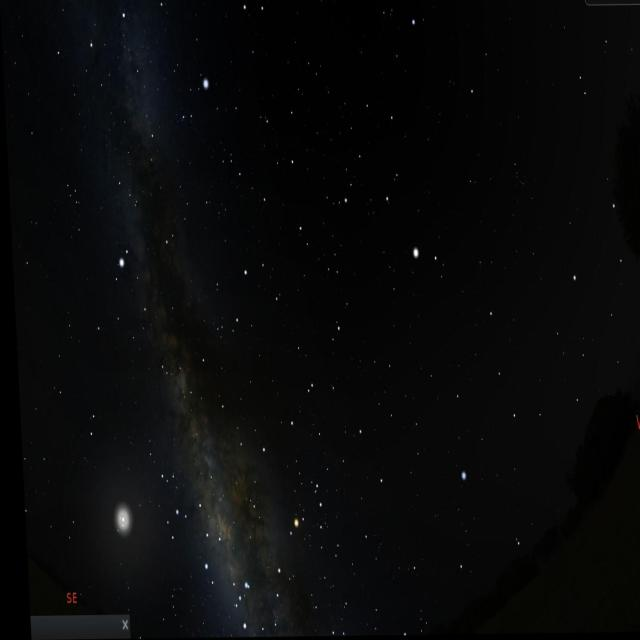aquila: (86, 198, 184, 387)
bootes: (336, 83, 456, 302)
lyra: (170, 71, 213, 132)
moon: (95, 488, 142, 563)
sagittarius: (147, 458, 225, 584)
scorpius: (224, 468, 326, 638)
